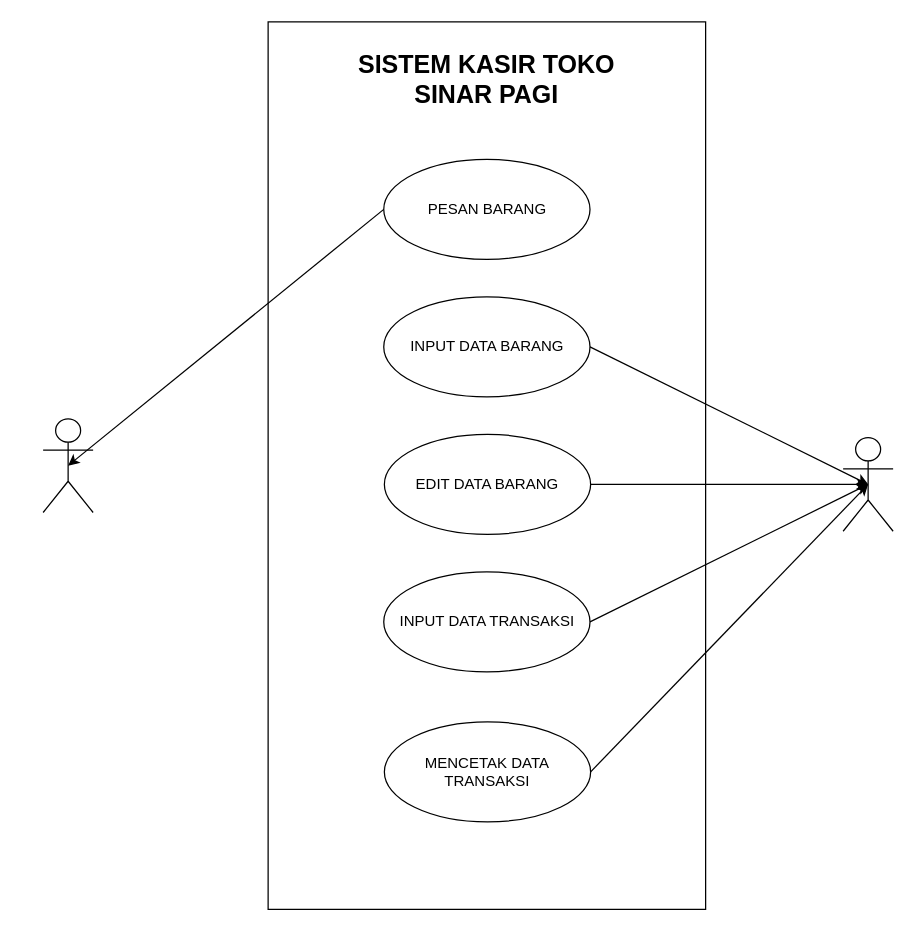
Some shapes in this 915 by 931 pixel diagram are drawn without their labels. Here are the shapes that lost their labels. From the top down, the box of each, then its label:
(42, 418, 93, 512): PELANGGAN
(842, 436, 893, 531): KASIR
